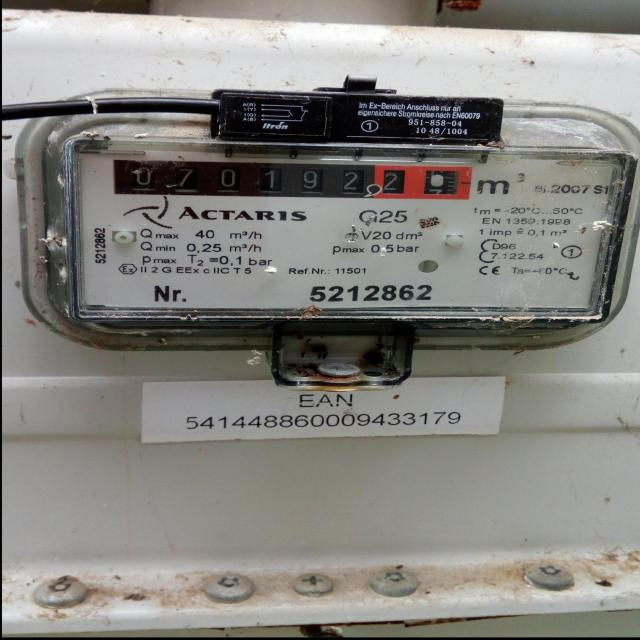gaz_meter: (61, 129, 611, 322)
indication: (113, 159, 472, 199)
